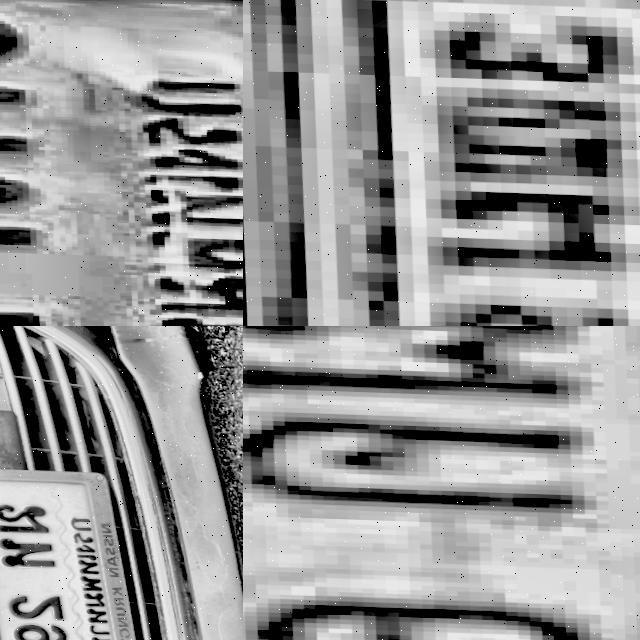license-plate: (243, 326, 640, 640), (286, 0, 640, 326), (0, 0, 243, 326), (0, 464, 153, 640)
